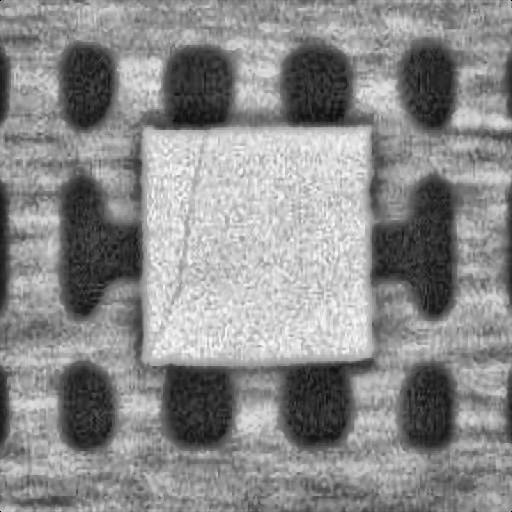DIE_CRACK: (152, 128, 209, 340)
